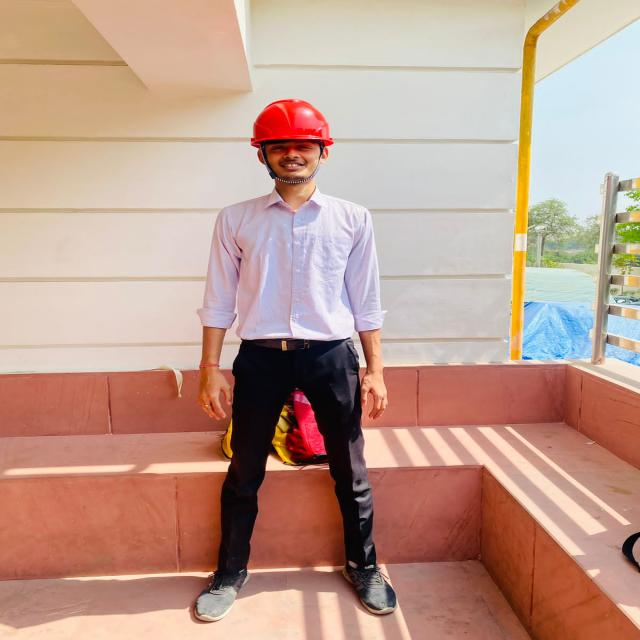no jacket: (192, 99, 396, 626)
